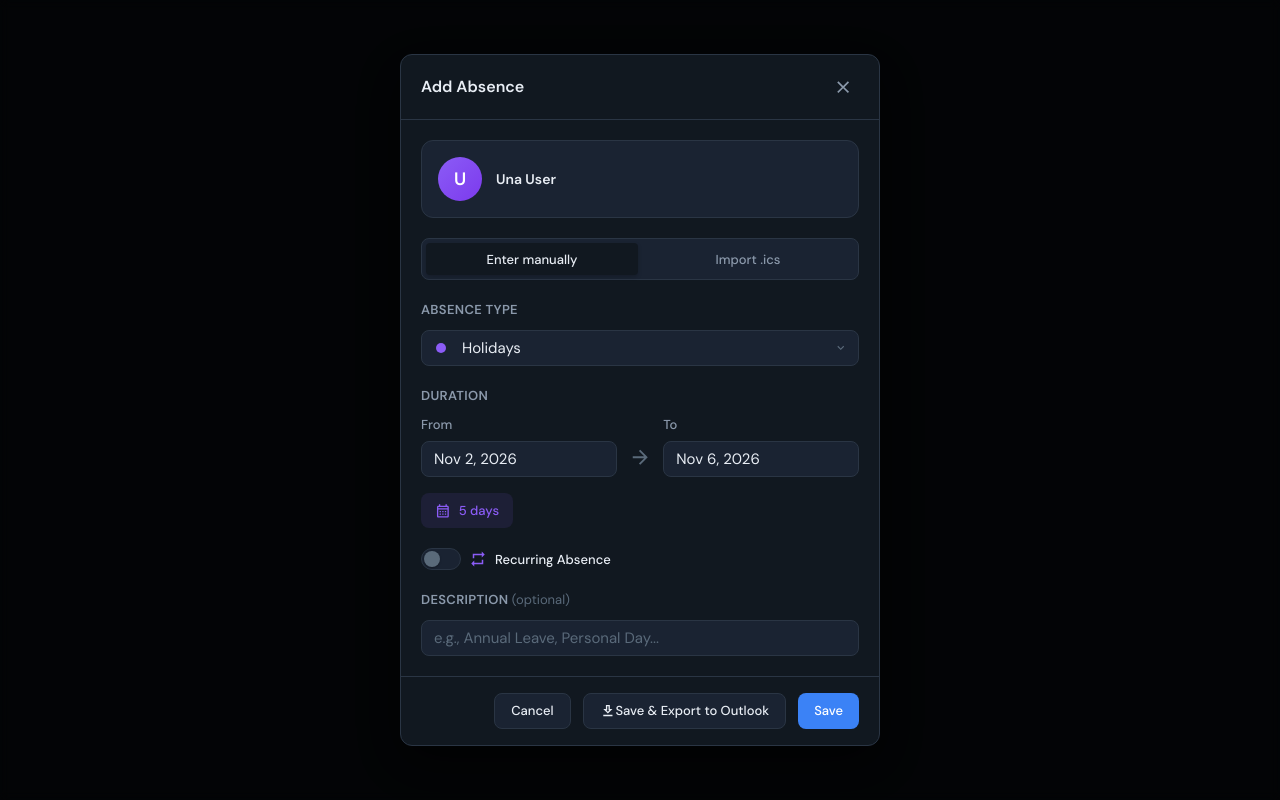
it: VacationModal › opens the day picker from the Recurring switch and forgets the days when switched off
Expected: the button "Mon" is not shown
Click the switch labelled "Recurring Absence" at {"x": 428, "y": 559}, box [420,551,436,567]
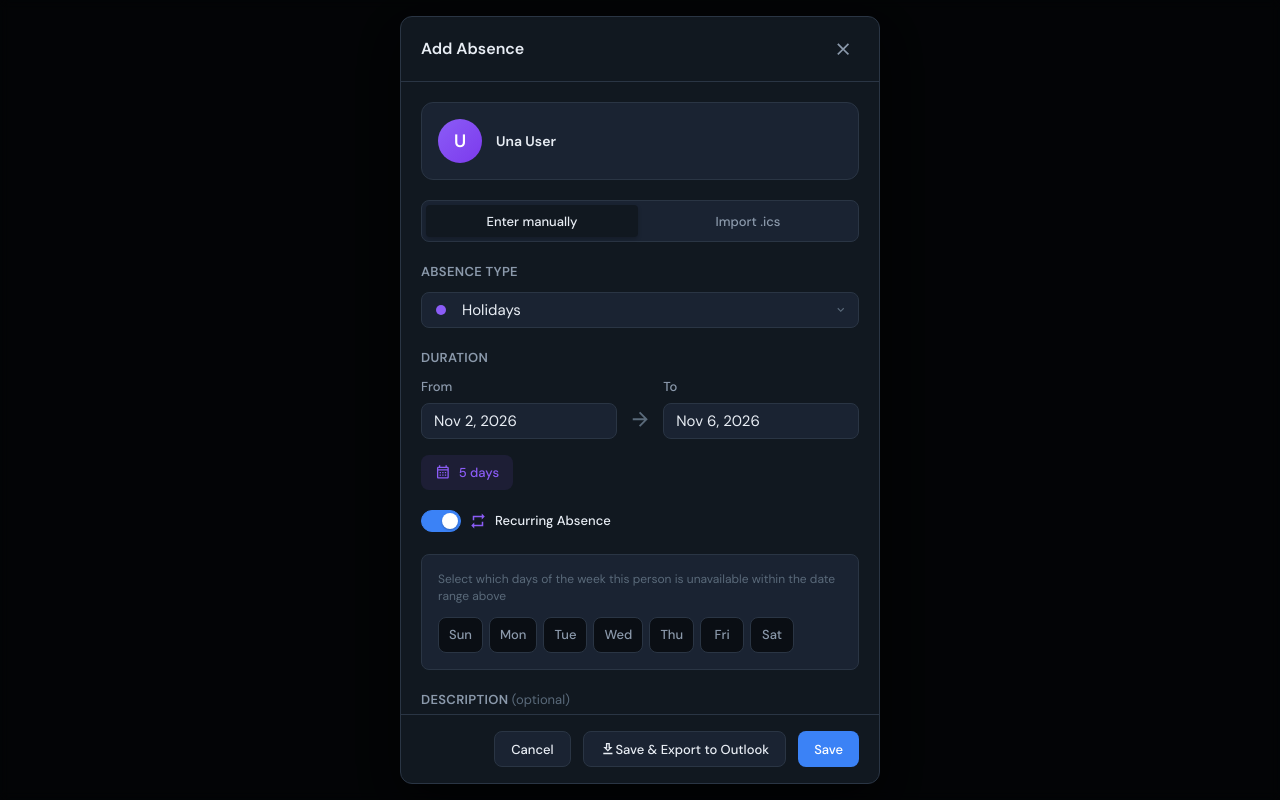
Click the button "Mon" at {"x": 513, "y": 635}, box [489,617,537,653]
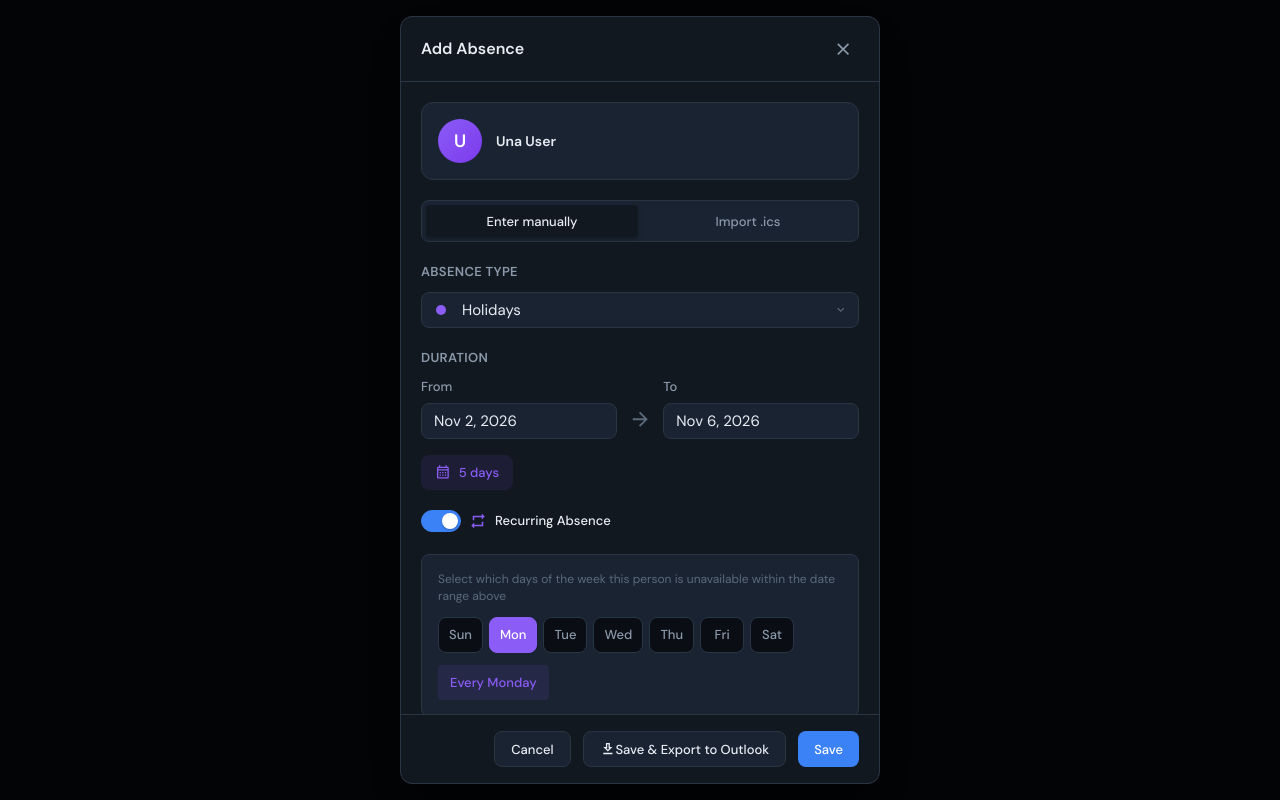
Now the text "Every Monday" is shown, box [438,665,549,700]
Note: Off and on again: the picked days are gone, so saving asks for one
Click the switch labelled "Recurring Absence" at {"x": 428, "y": 521}, box [420,513,436,529]
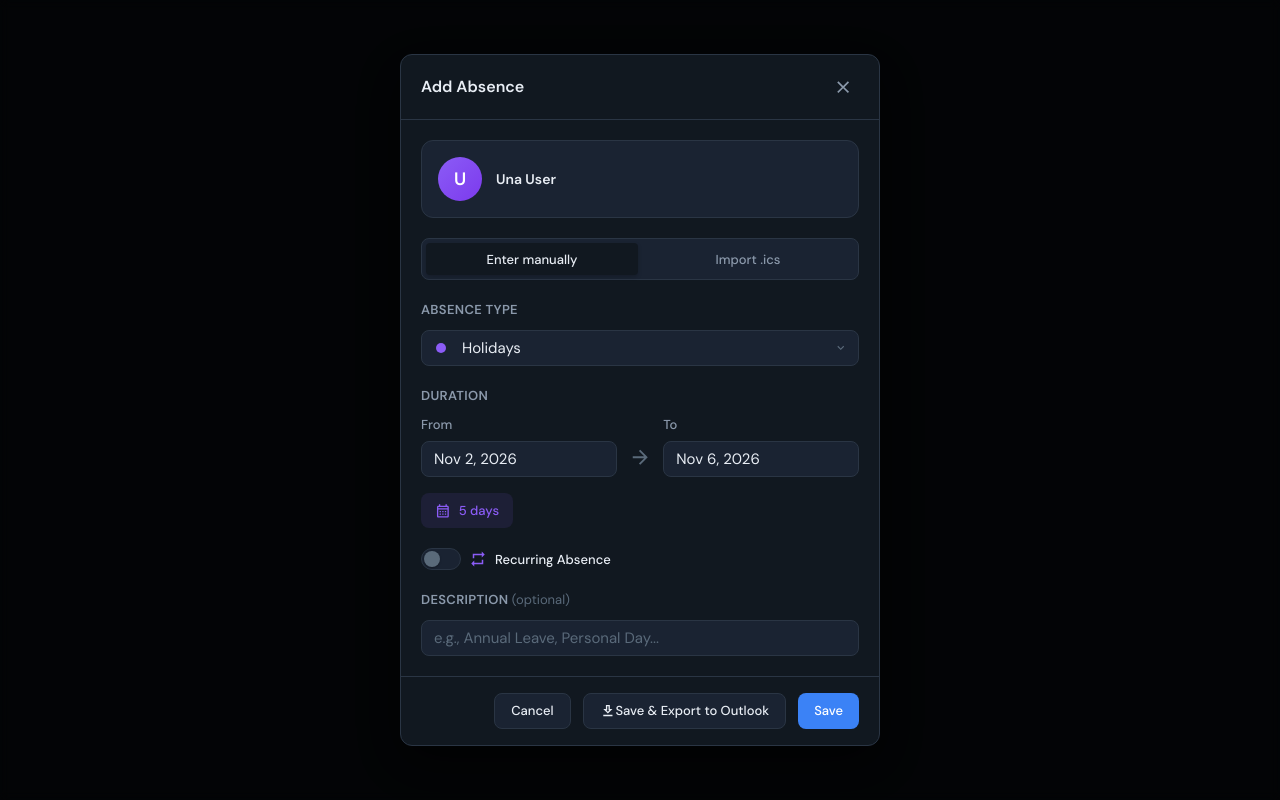
Now the button "Mon" is gone
Click the switch labelled "Recurring Absence" at {"x": 428, "y": 559}, box [420,551,436,567]
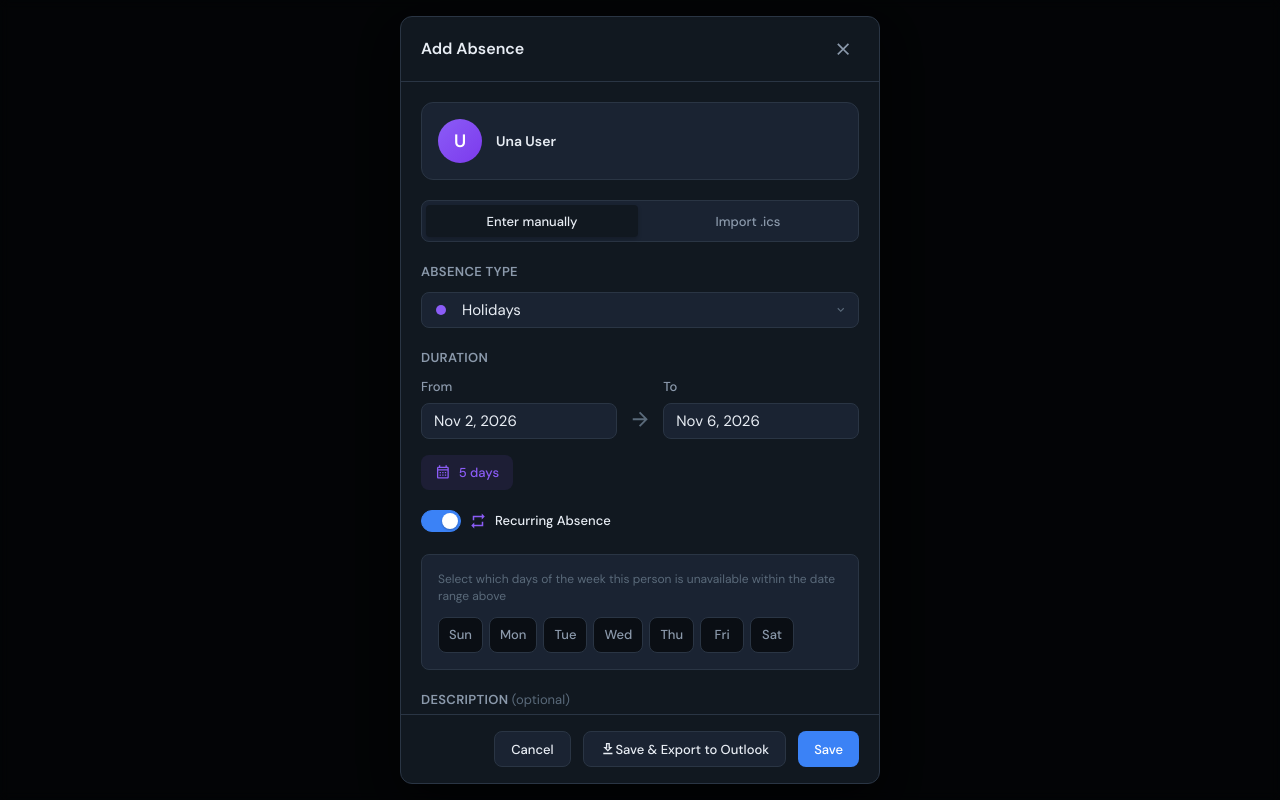
Click the button "Save" at {"x": 829, "y": 749}, box [798,731,859,767]
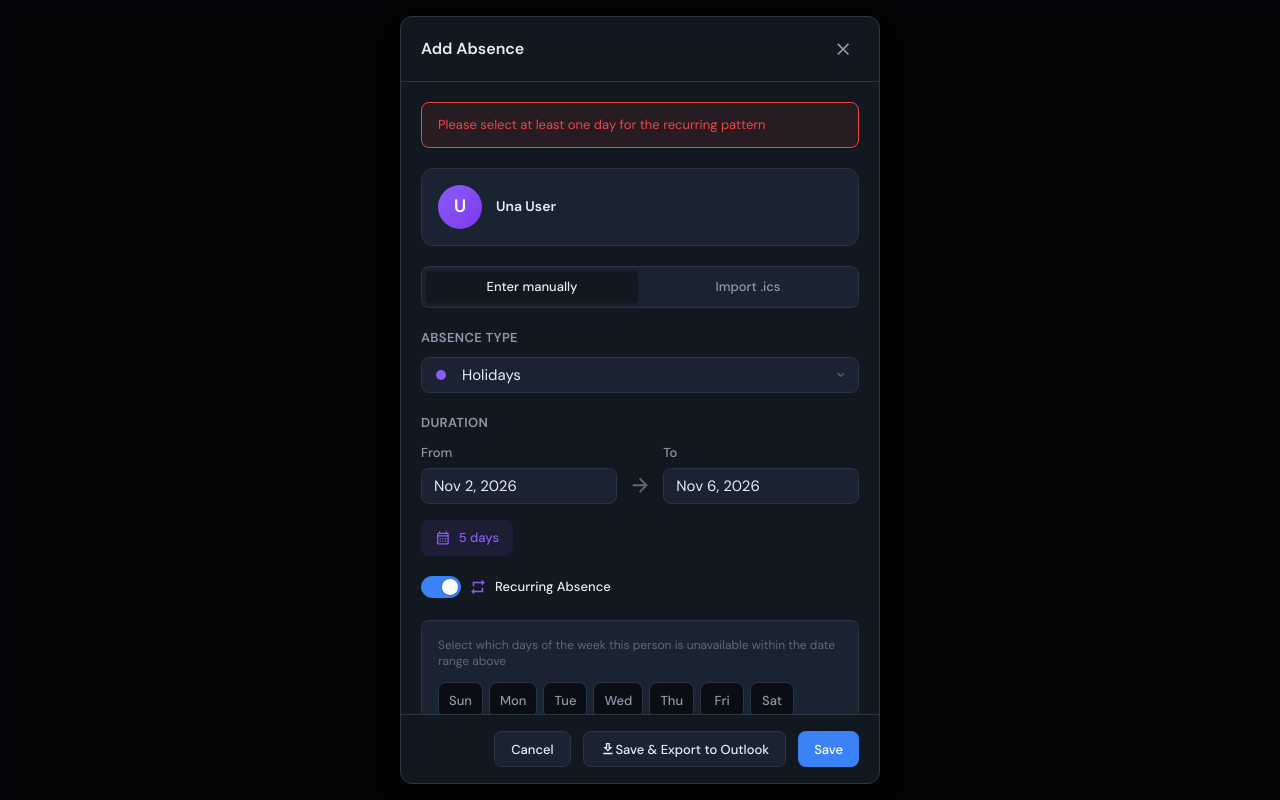
Now the text "Please select at least one day for the recurring pattern" is shown, box [421,102,859,148]
